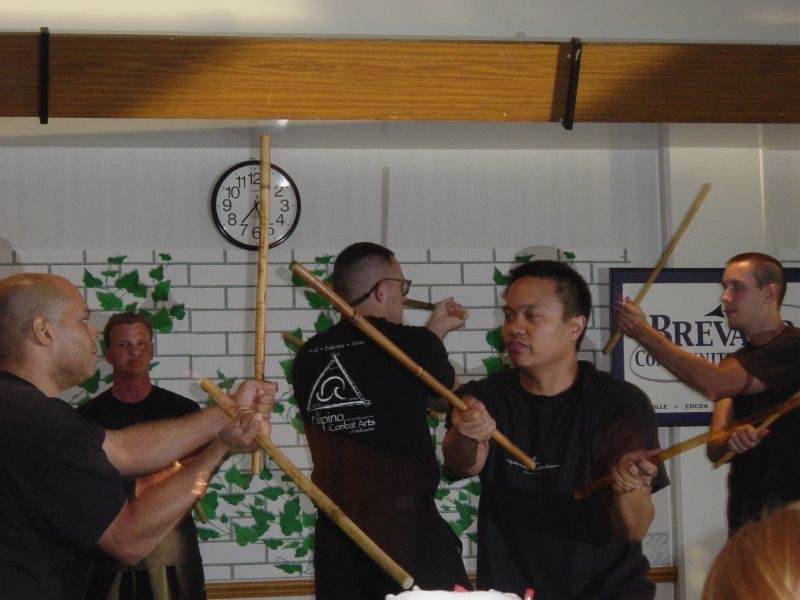baston_e: (297, 260, 523, 465), (209, 378, 397, 579), (584, 397, 794, 502), (603, 190, 711, 345), (252, 145, 273, 475), (717, 402, 783, 470)
baston_v: (285, 253, 310, 282), (253, 124, 277, 146), (394, 571, 418, 590), (192, 373, 213, 392), (524, 454, 540, 474), (569, 485, 587, 502), (597, 340, 615, 357), (699, 177, 716, 194), (249, 466, 264, 478), (709, 460, 722, 473)
